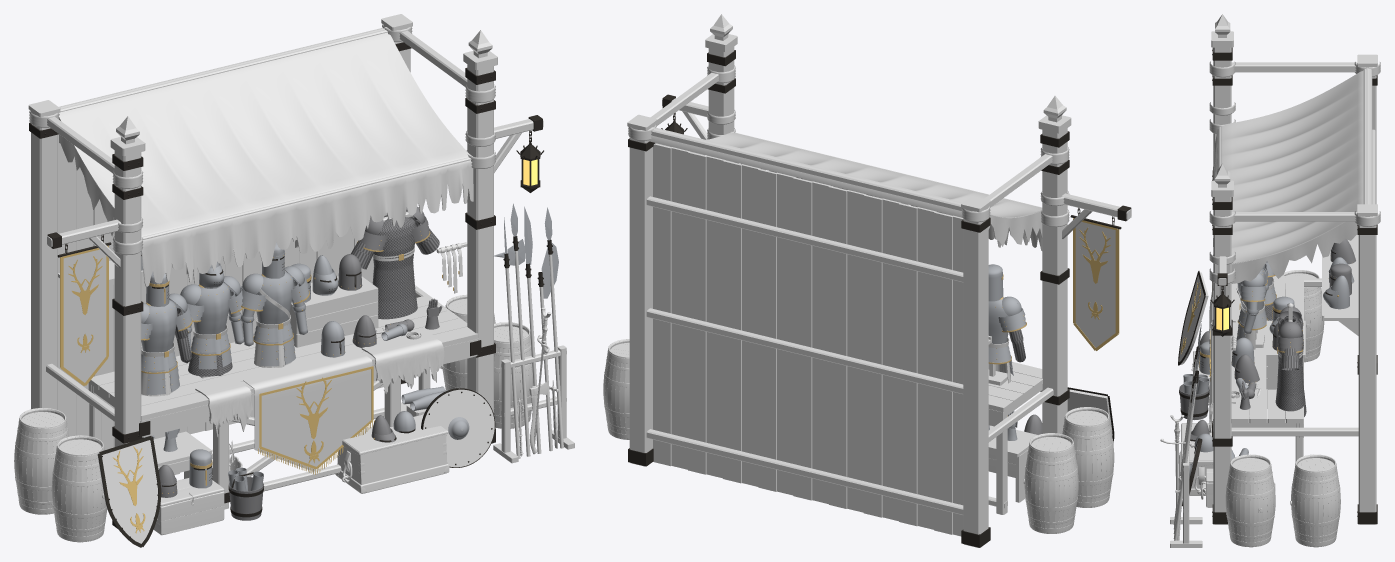
File: SilverbrookArmorVendor.glb
The picture shows the model from 3 angles, left to right: view 1: azimuth 30°, elevation 25°; view 2: azimuth 150°, elevation 25°; view 3: azimuth 270°, elevation 25°; orthographic projection. The views are drawn at different scales.
Visible parts, largest first — view 1: SM_SBArmorVendor_Cloth, SM_SBArmorVendor_Timber, SM_SBArmorVendor_Armour, SM_SBArmorVendor_Details, wine_barrel_01_0, wooden_crate_02_0, wine_barrel_01_0.001, wine_barrel_01_0.002, wooden_crate_01_0, wooden_crate_02_1, wine_barrel_01_0.003, wooden_crate_01_2; view 2: SM_SBArmorVendor_Timber, SM_SBArmorVendor_Cloth, SM_SBArmorVendor_Details, wine_barrel_01_0.001, wine_barrel_01_0, SM_SBArmorVendor_Armour, wine_barrel_01_0.003; view 3: SM_SBArmorVendor_Timber, SM_SBArmorVendor_Cloth, SM_SBArmorVendor_Armour, SM_SBArmorVendor_Details, wine_barrel_01_0.003, wine_barrel_01_0.002, wine_barrel_01_0.001, wooden_crate_02_1, antique_estoc_0, wooden_crate_02_0, wine_barrel_01_3.002, wine_barrel_01_3.003 (+1 smaller).
Boxes of the visible parts, x1=… form: SM_SBArmorVendor_Cloth: x1=59, y1=27, x2=473, y2=543; SM_SBArmorVendor_Timber: x1=28, y1=14, x2=574, y2=515; SM_SBArmorVendor_Armour: x1=141, y1=203, x2=558, y2=520; SM_SBArmorVendor_Details: x1=29, y1=24, x2=553, y2=547; wine_barrel_01_0: x1=51, y1=435, x2=107, y2=542; wooden_crate_02_0: x1=335, y1=434, x2=449, y2=493; wine_barrel_01_0.001: x1=14, y1=408, x2=68, y2=514; wine_barrel_01_0.002: x1=494, y1=322, x2=533, y2=428; wooden_crate_01_0: x1=153, y1=491, x2=224, y2=535; wooden_crate_02_1: x1=342, y1=414, x2=448, y2=454; wine_barrel_01_0.003: x1=442, y1=294, x2=495, y2=390; wooden_crate_01_2: x1=160, y1=478, x2=224, y2=506; SM_SBArmorVendor_Timber: x1=627, y1=14, x2=1131, y2=547; SM_SBArmorVendor_Cloth: x1=649, y1=127, x2=1117, y2=383; SM_SBArmorVendor_Details: x1=628, y1=50, x2=1131, y2=547; wine_barrel_01_0.001: x1=1024, y1=433, x2=1078, y2=533; wine_barrel_01_0: x1=1062, y1=407, x2=1114, y2=507; SM_SBArmorVendor_Armour: x1=988, y1=264, x2=1042, y2=440; wine_barrel_01_0.003: x1=603, y1=339, x2=629, y2=439; SM_SBArmorVendor_Timber: x1=1170, y1=14, x2=1377, y2=547; SM_SBArmorVendor_Cloth: x1=1179, y1=68, x2=1372, y2=432; SM_SBArmorVendor_Armour: x1=1179, y1=239, x2=1355, y2=459; SM_SBArmorVendor_Details: x1=1178, y1=47, x2=1380, y2=524; wine_barrel_01_0.003: x1=1291, y1=454, x2=1340, y2=547; wine_barrel_01_0.002: x1=1225, y1=454, x2=1275, y2=547; wine_barrel_01_0.001: x1=1282, y1=270, x2=1324, y2=362; wooden_crate_02_1: x1=1181, y1=423, x2=1213, y2=466; antique_estoc_0: x1=1160, y1=415, x2=1193, y2=511; wooden_crate_02_0: x1=1179, y1=451, x2=1213, y2=495; wine_barrel_01_3.002: x1=1232, y1=458, x2=1268, y2=470; wine_barrel_01_3.003: x1=1297, y1=458, x2=1334, y2=470.
Bounding box in the file's own units: 5.52 × 4.35 × 2.43.
